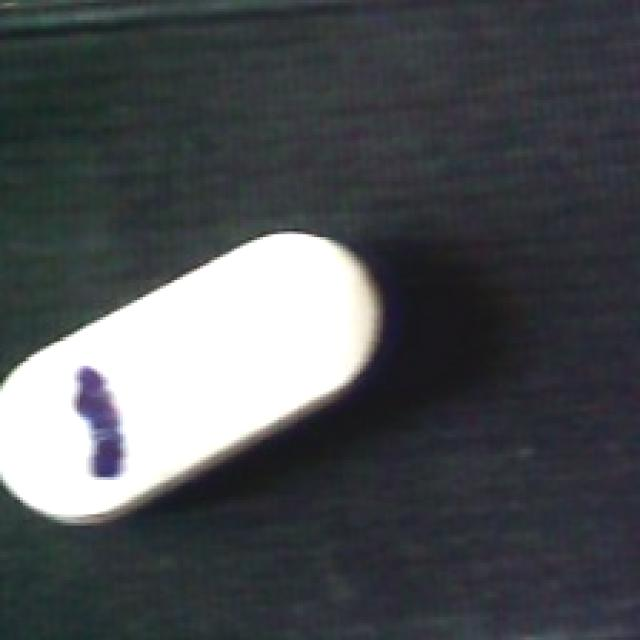defected: (0, 228, 395, 532)
